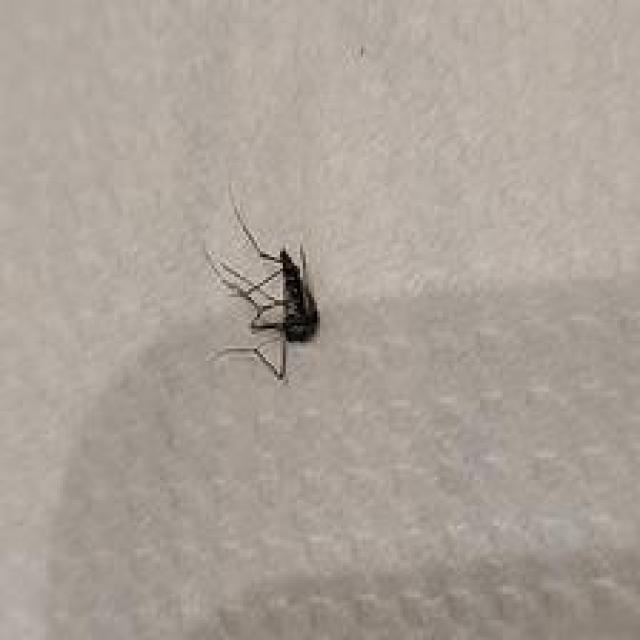Aedes albopictus: (203, 186, 323, 383)
